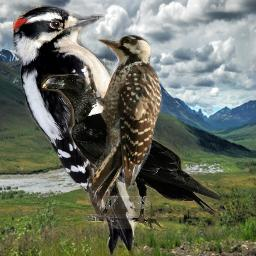Crow: (41, 74, 223, 229)
Woodpecker: (13, 5, 140, 255), (81, 30, 163, 213)
